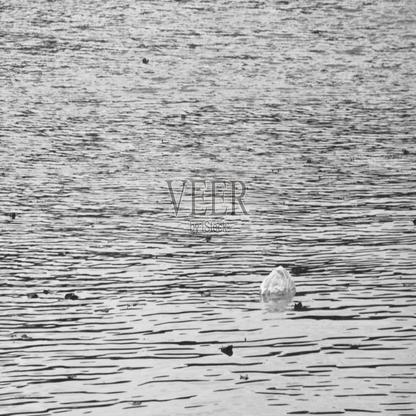plastic bag: (258, 265, 295, 296)
